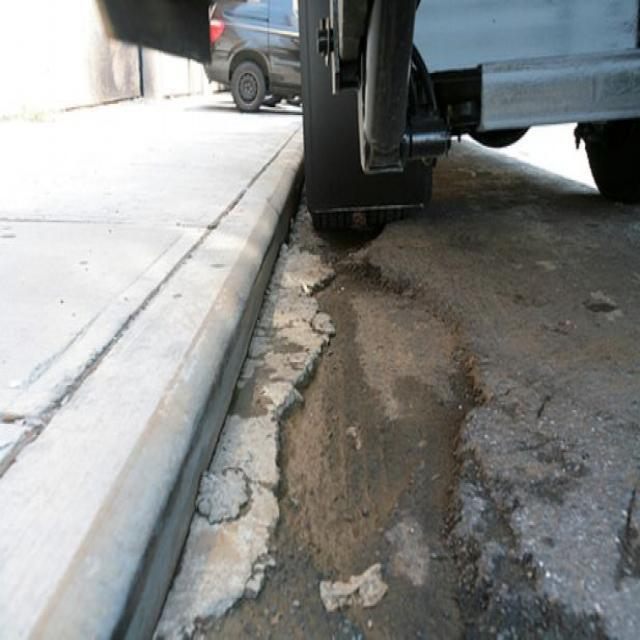pothole: (242, 267, 483, 640)
